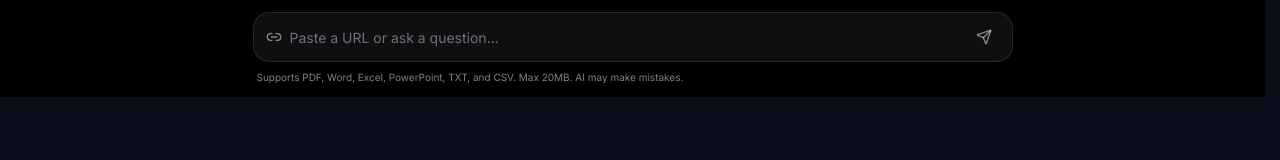
it: ChatInputBar › shows clear button when input has text
The image size is (1280, 160).
Type "Some text" into the field named "Enter a URL, upload a file, or type a message" at (620, 38), box [290, 28, 952, 48]
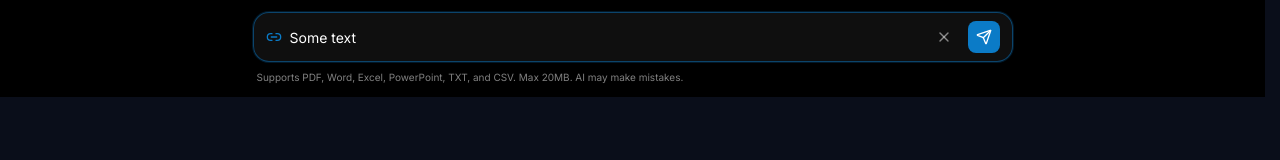
Now the button named "Clear input" is shown, box [936, 29, 952, 45]
